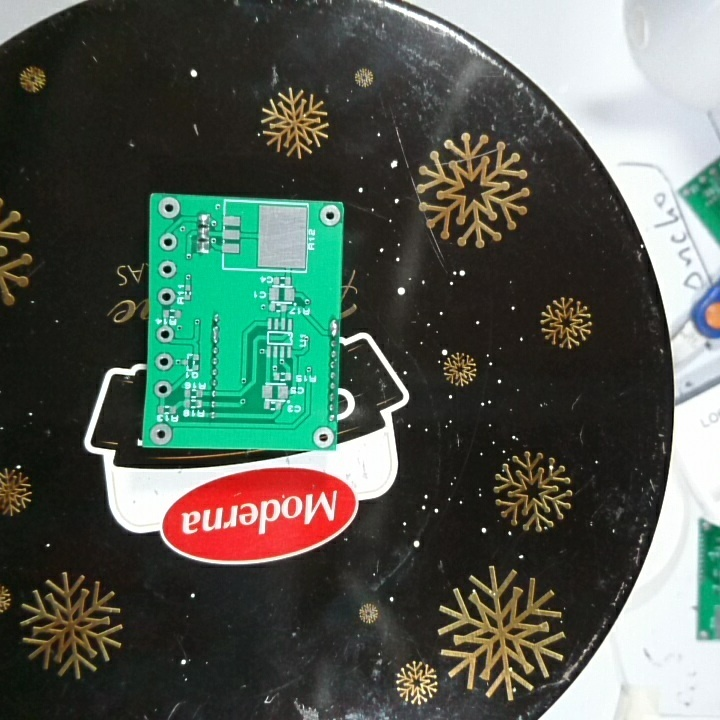F: (315, 203, 342, 229), (156, 195, 181, 223), (310, 425, 335, 451), (148, 422, 174, 446), (157, 232, 179, 254), (153, 349, 174, 372), (151, 378, 174, 399), (157, 259, 179, 280), (155, 324, 176, 345), (156, 287, 177, 306)
P: (326, 317, 339, 340), (208, 323, 222, 344)
